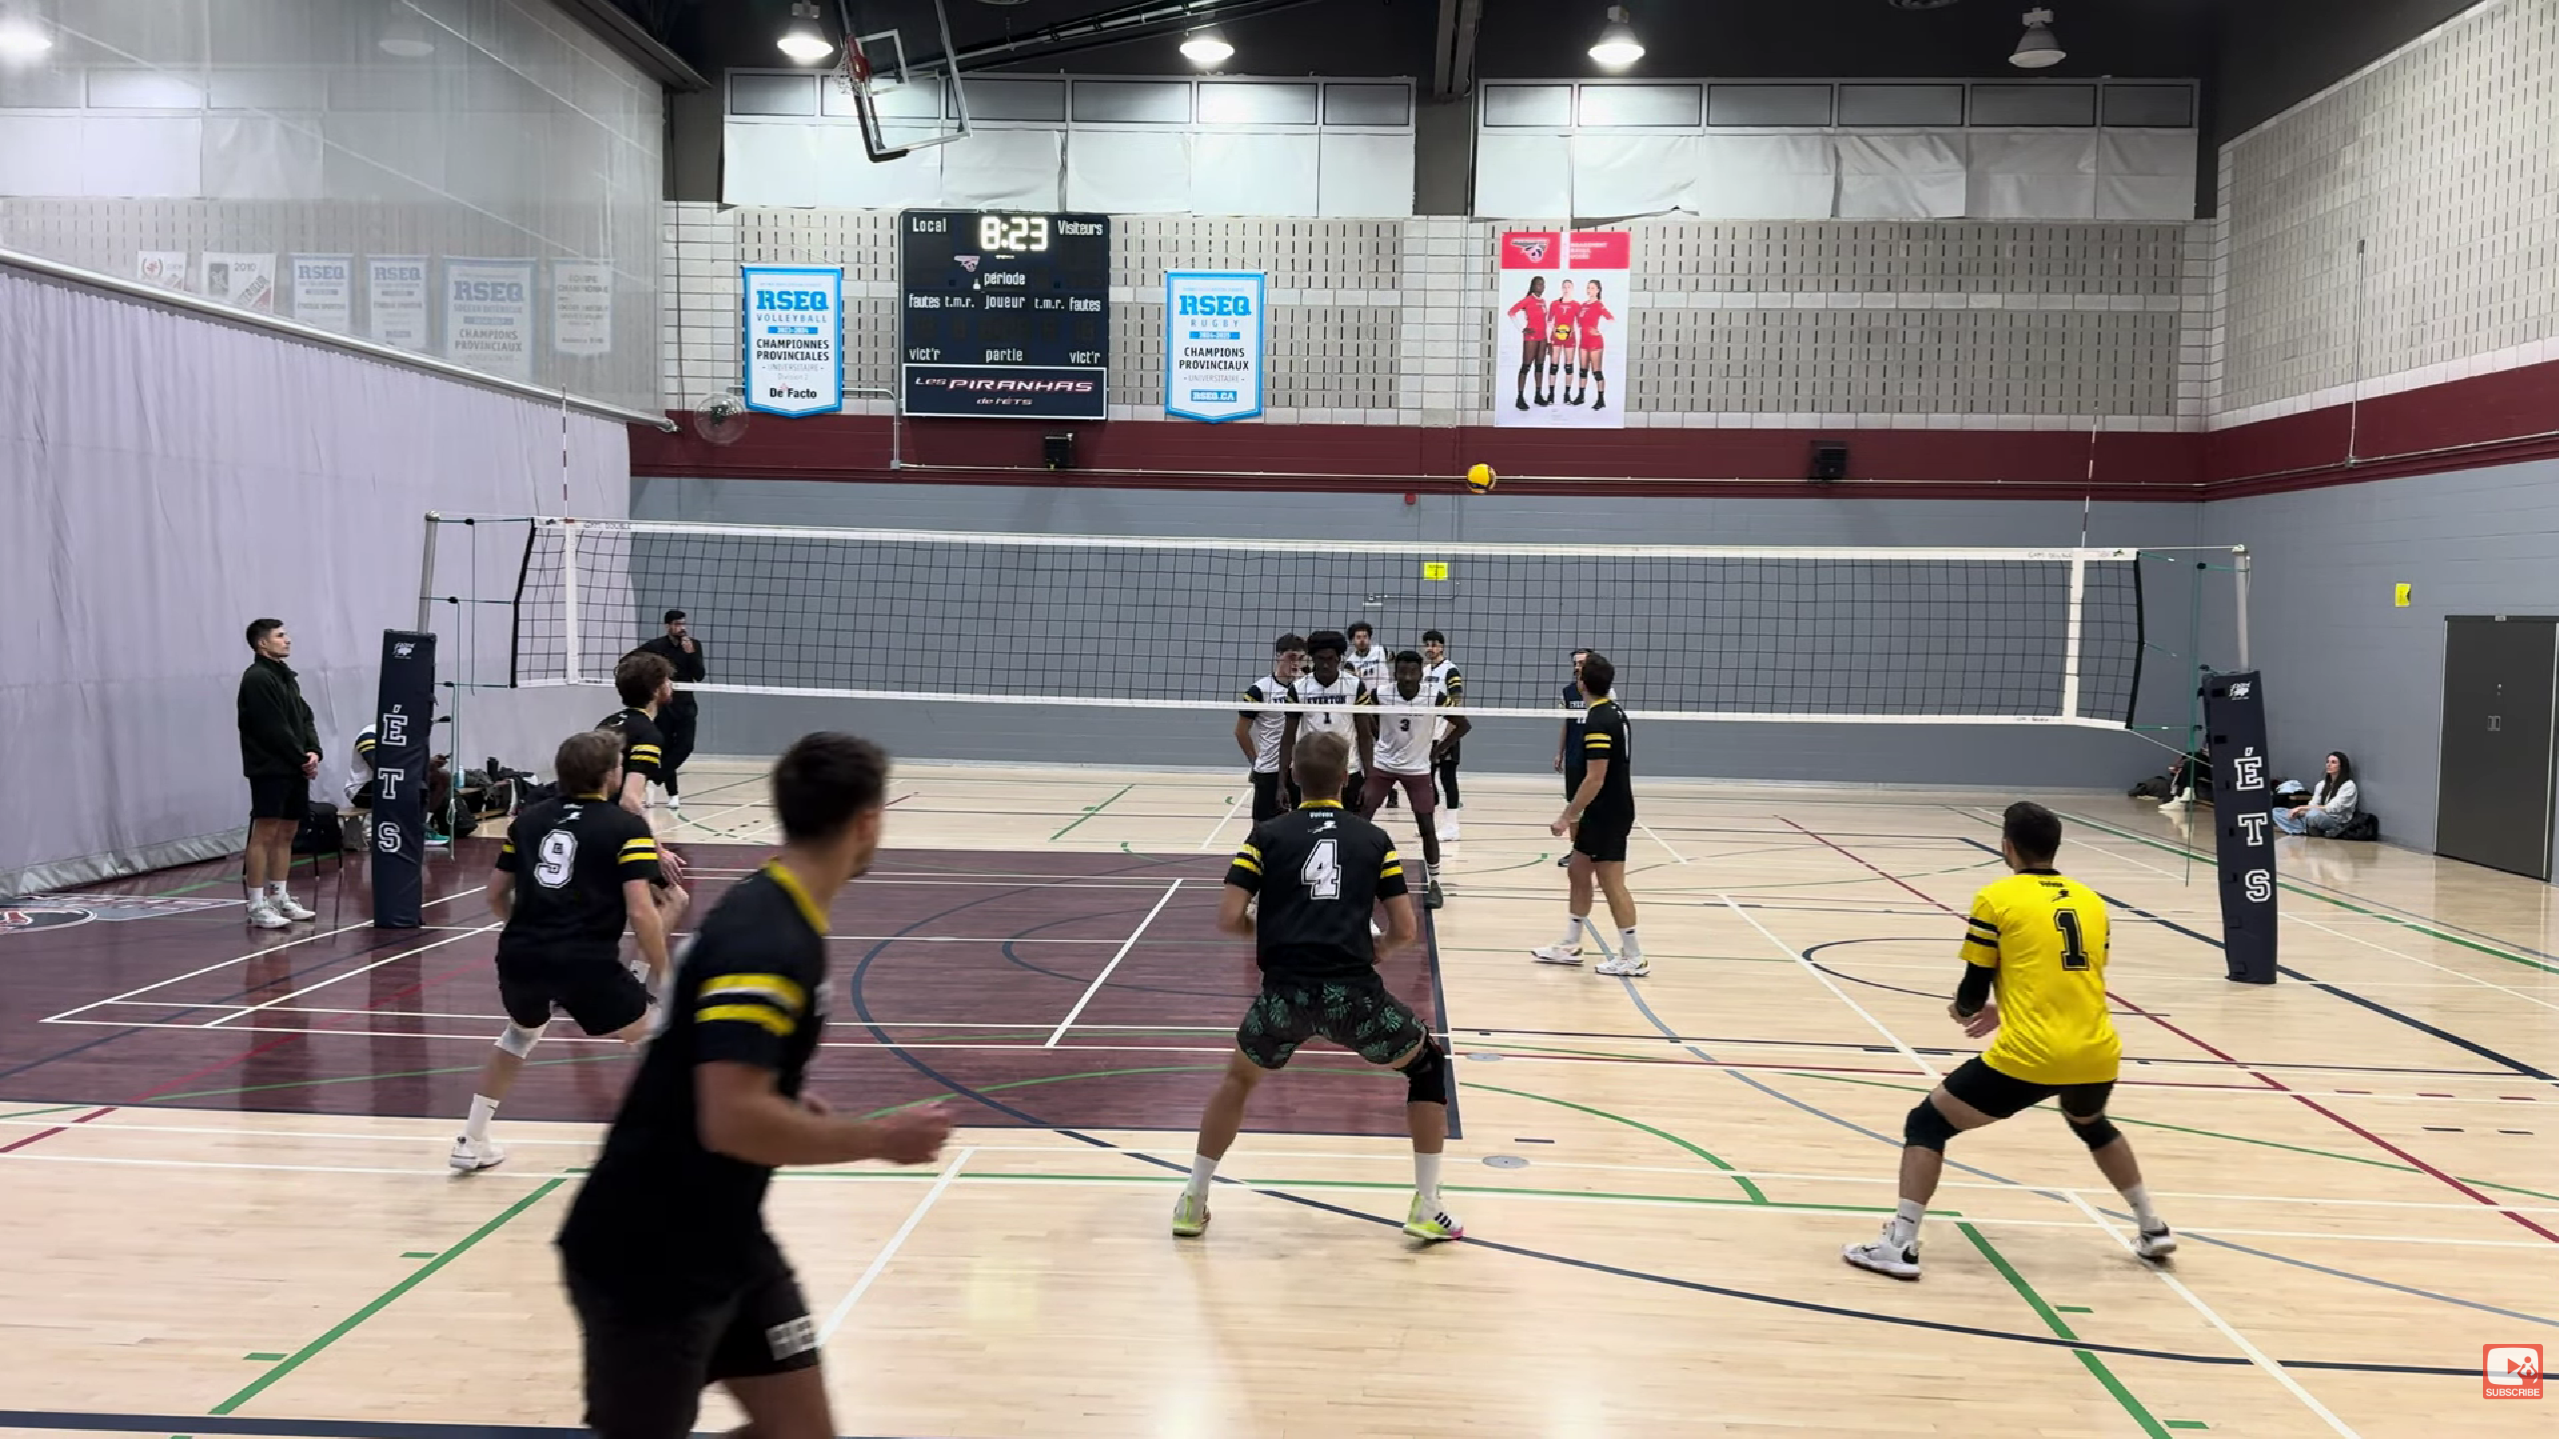Ball: (1466, 462, 1497, 495)
